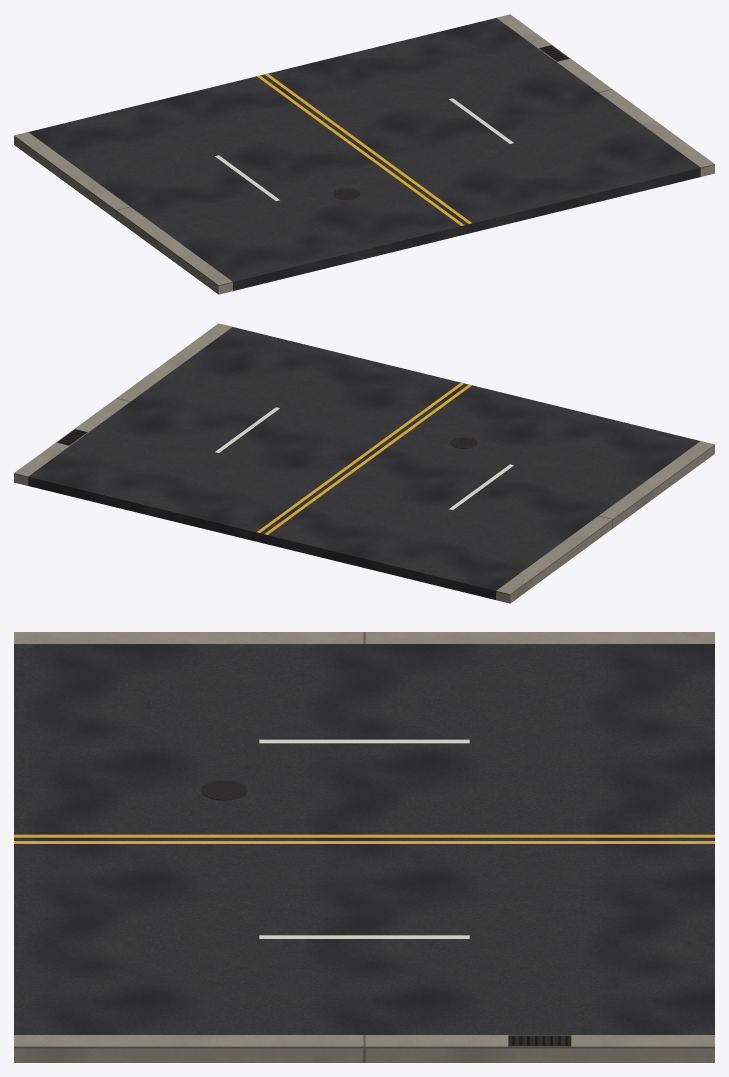
The model's file is road_straight.glb.
3 renders of one model, top to bottom at view 1: azimuth 30°, elevation 25°; view 2: azimuth 150°, elevation 25°; view 3: azimuth 270°, elevation 25°, orthographic. The views are drawn at different scales.
Parts seen in each view (by area): view 1: body; view 2: body; view 3: body.
Boxes of the visible parts, bbox=[...] form: body: bbox=[14, 14, 714, 294]; body: bbox=[14, 323, 714, 603]; body: bbox=[14, 632, 714, 1062].
Bounding box in the file's own units: 14 × 0.266 × 10.
Materials: 6 (2 with a texture image).
